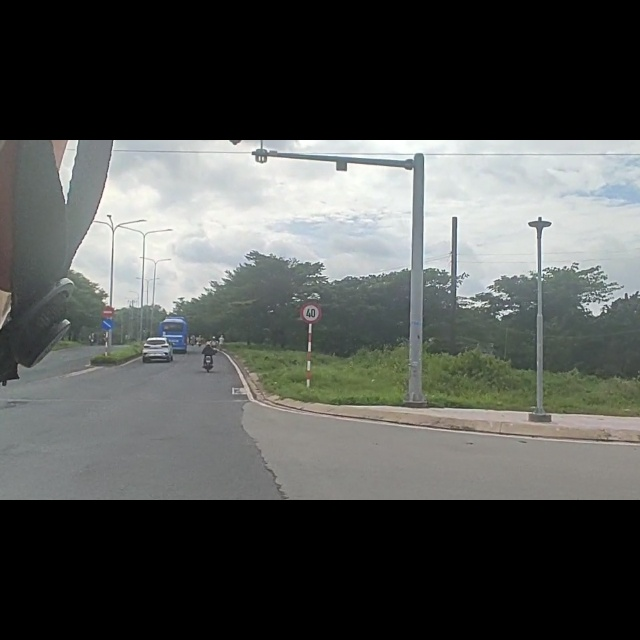bien_hieu_lenh: (301, 288, 323, 325), (101, 294, 117, 316), (100, 316, 114, 341)
